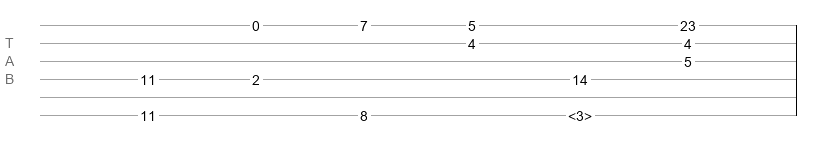0: (252, 18, 260, 28)
11: (140, 108, 156, 118), (140, 72, 156, 82)
14: (572, 72, 588, 82)
2: (252, 72, 260, 82)
23: (680, 18, 696, 28)
4: (468, 36, 476, 46), (684, 36, 692, 46)
5: (468, 18, 476, 28), (684, 54, 692, 64)
7: (360, 18, 368, 28)
8: (360, 108, 368, 118)
harmonic: (568, 108, 592, 118)
